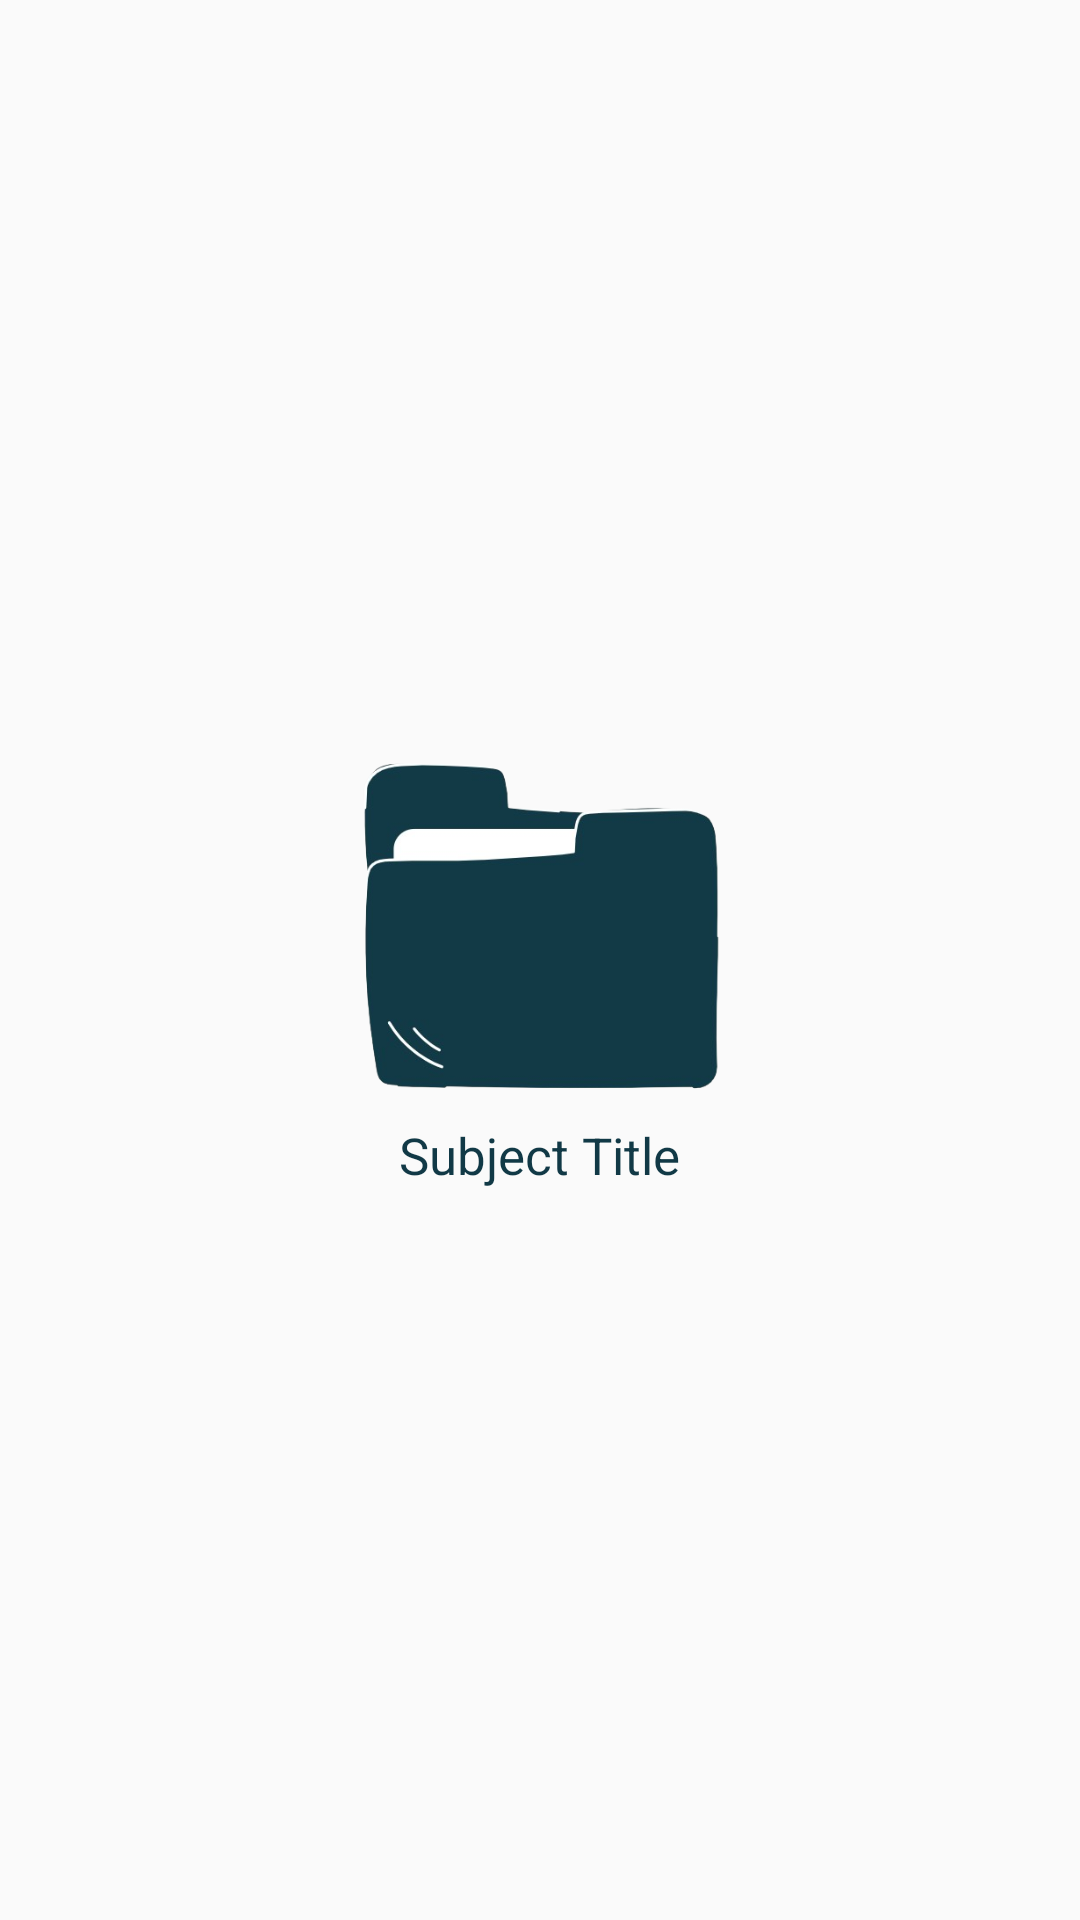

Named icons in this screenshot (1080px x 1920px) and their centers, (x=x, y=y):
folder: (x=541, y=926)
